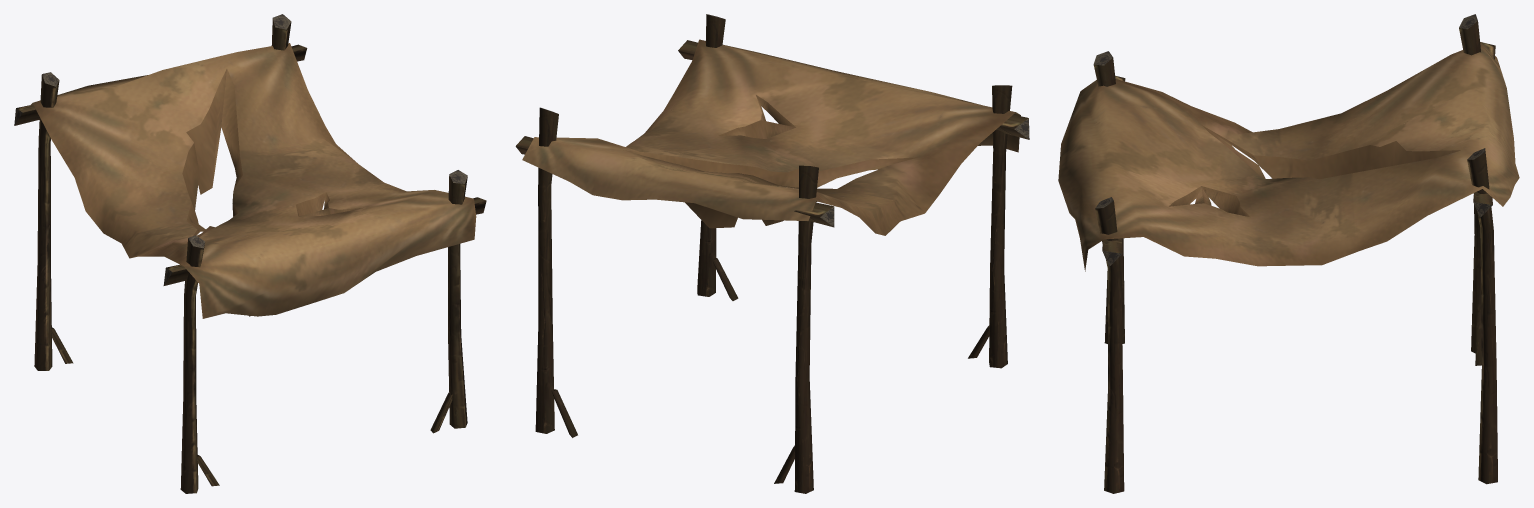
File: Z_pengzi004.fbx
The picture shows the model from 3 angles, left to right: view 1: azimuth 30°, elevation 25°; view 2: azimuth 150°, elevation 25°; view 3: azimuth 270°, elevation 25°; orthographic projection. The views are drawn at different scales.
Parts seen in each view (by area): view 1: Z_pengzi004; view 2: Z_pengzi004; view 3: Z_pengzi004.
Part boxes in pixels (x1,y1,x2,y2): Z_pengzi004: [14, 14, 486, 493]; Z_pengzi004: [515, 14, 1029, 493]; Z_pengzi004: [1058, 14, 1519, 493].
Bounding box in the file's own units: 437 × 389 × 486.
